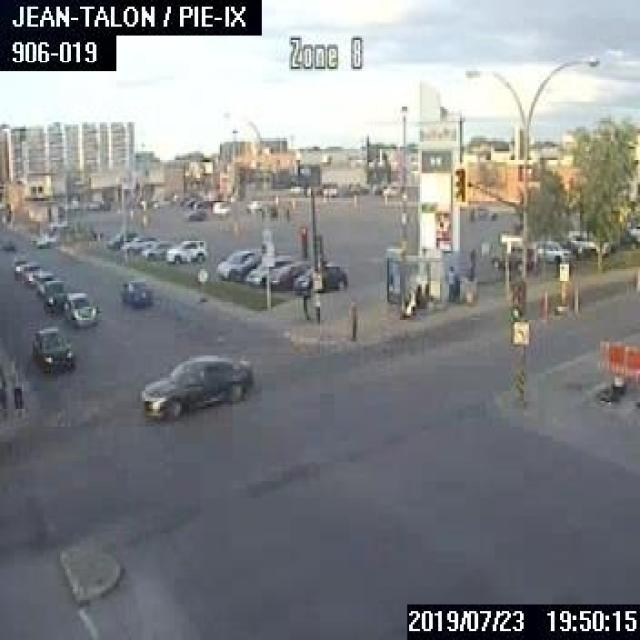construction: (597, 333, 638, 403)
pedestrian: (7, 360, 25, 416), (346, 296, 358, 338), (403, 282, 415, 316), (299, 282, 310, 319), (414, 282, 428, 306), (311, 291, 321, 324), (446, 264, 454, 299)
vehicle: (140, 351, 249, 420), (27, 322, 73, 373), (292, 264, 346, 294), (245, 253, 290, 284), (63, 292, 98, 326), (266, 262, 310, 288), (214, 248, 253, 276), (567, 228, 609, 254), (164, 237, 205, 263), (41, 277, 69, 313), (120, 273, 149, 307), (491, 246, 532, 270), (532, 238, 573, 262), (118, 233, 156, 253), (140, 238, 172, 258), (105, 228, 136, 246), (20, 261, 42, 286), (609, 228, 636, 248), (34, 270, 53, 295), (11, 254, 28, 278), (622, 217, 638, 240), (210, 198, 228, 216), (471, 204, 495, 217), (183, 207, 204, 219), (0, 235, 15, 249), (191, 197, 206, 207), (183, 195, 195, 205)
